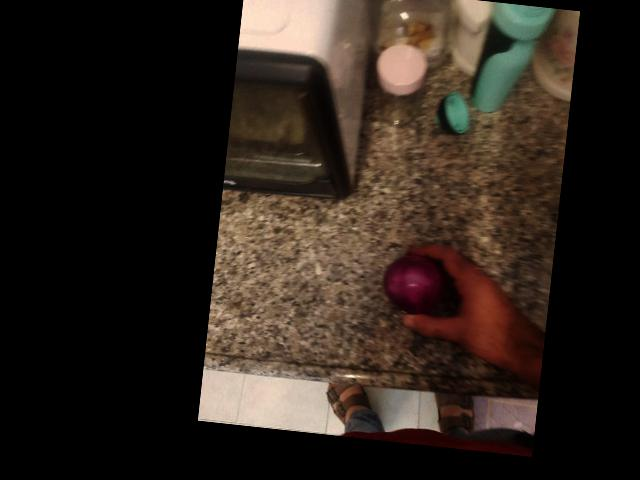onion: (380, 253, 470, 342)
